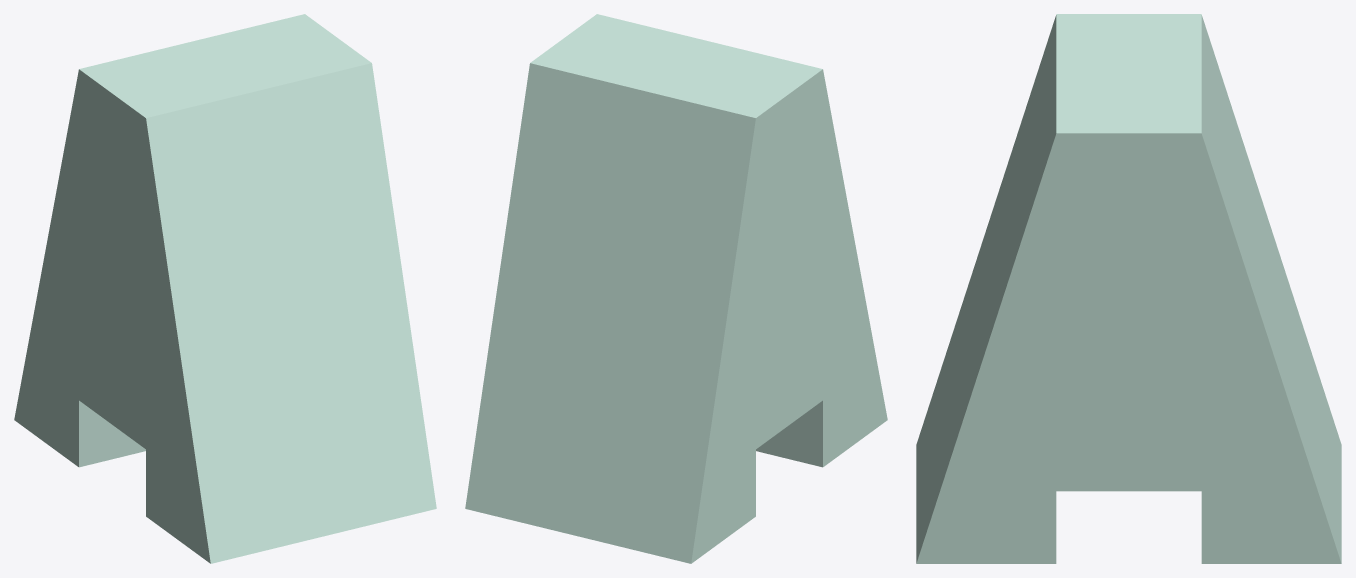
The picture shows the model from 3 angles, left to right: view 1: azimuth 30°, elevation 25°; view 2: azimuth 150°, elevation 25°; view 3: azimuth 270°, elevation 25°; orthographic projection. The views are drawn at different scales.
Visible parts, largest first — view 1: Renderer Node; view 2: Renderer Node; view 3: Renderer Node.
Boxes of the visible parts, <box> form: Renderer Node: <box>14,14,436,563</box>; Renderer Node: <box>465,14,887,563</box>; Renderer Node: <box>916,14,1341,563</box>.
Bounding box in the file's own units: 0.4453 × 0.75 × 0.6711.
